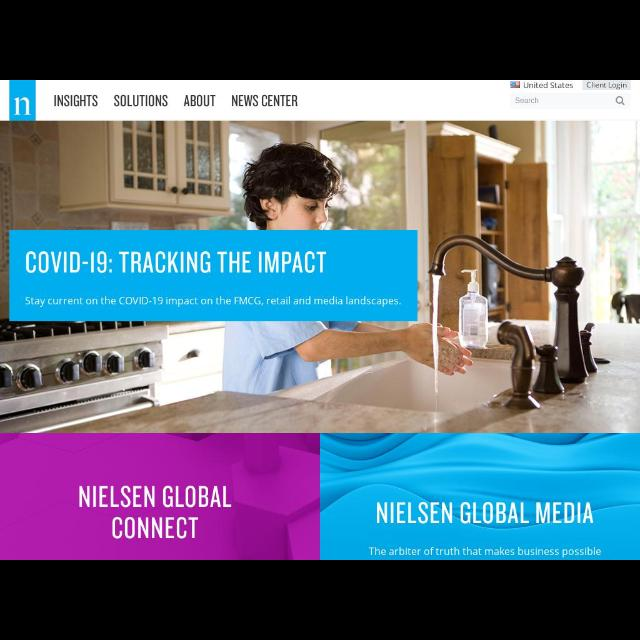backgroundimage: (1, 120, 639, 432)
icon: (616, 96, 624, 105)
image: (10, 80, 36, 120), (510, 82, 520, 88)
input: (510, 93, 630, 107)
text: (26, 251, 326, 273), (376, 502, 594, 524), (24, 297, 402, 309), (79, 486, 233, 508), (368, 546, 602, 558), (112, 516, 198, 540), (232, 95, 298, 107), (114, 95, 168, 107), (54, 95, 98, 107), (184, 95, 216, 107), (586, 81, 628, 89), (524, 82, 574, 88), (515, 96, 539, 104)
textbutton: (582, 80, 632, 90)
toolbar: (1, 80, 640, 120)
